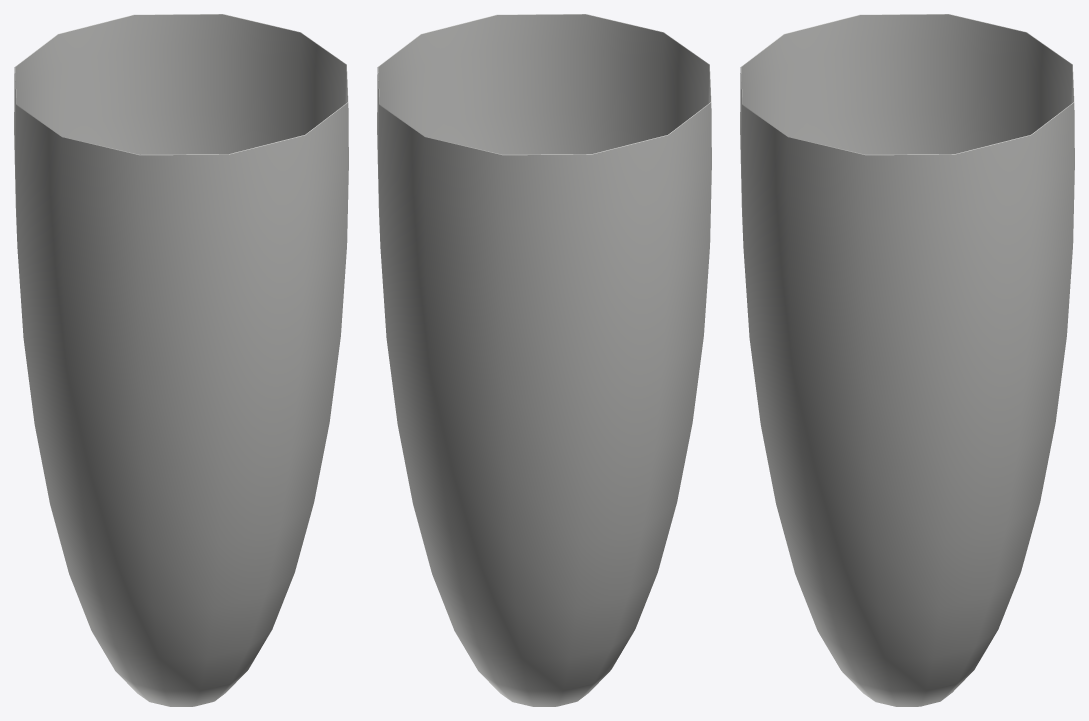
The model's file is SmallWhitePots008.FBX.
The picture shows the model from 3 angles, left to right: view 1: azimuth 30°, elevation 25°; view 2: azimuth 150°, elevation 25°; view 3: azimuth 270°, elevation 25°; orthographic projection.
Parts seen in each view (by area): view 1: SmallWhitePots008; view 2: SmallWhitePots008; view 3: SmallWhitePots008.
Part boxes in pixels (x1,y1,x2,y2): SmallWhitePots008: (14,14,348,706); SmallWhitePots008: (377,14,711,706); SmallWhitePots008: (740,14,1074,706).
Size of the model in its own units: 0.3004 by 0.5975 by 0.3004.
1 material, 1 textured.
